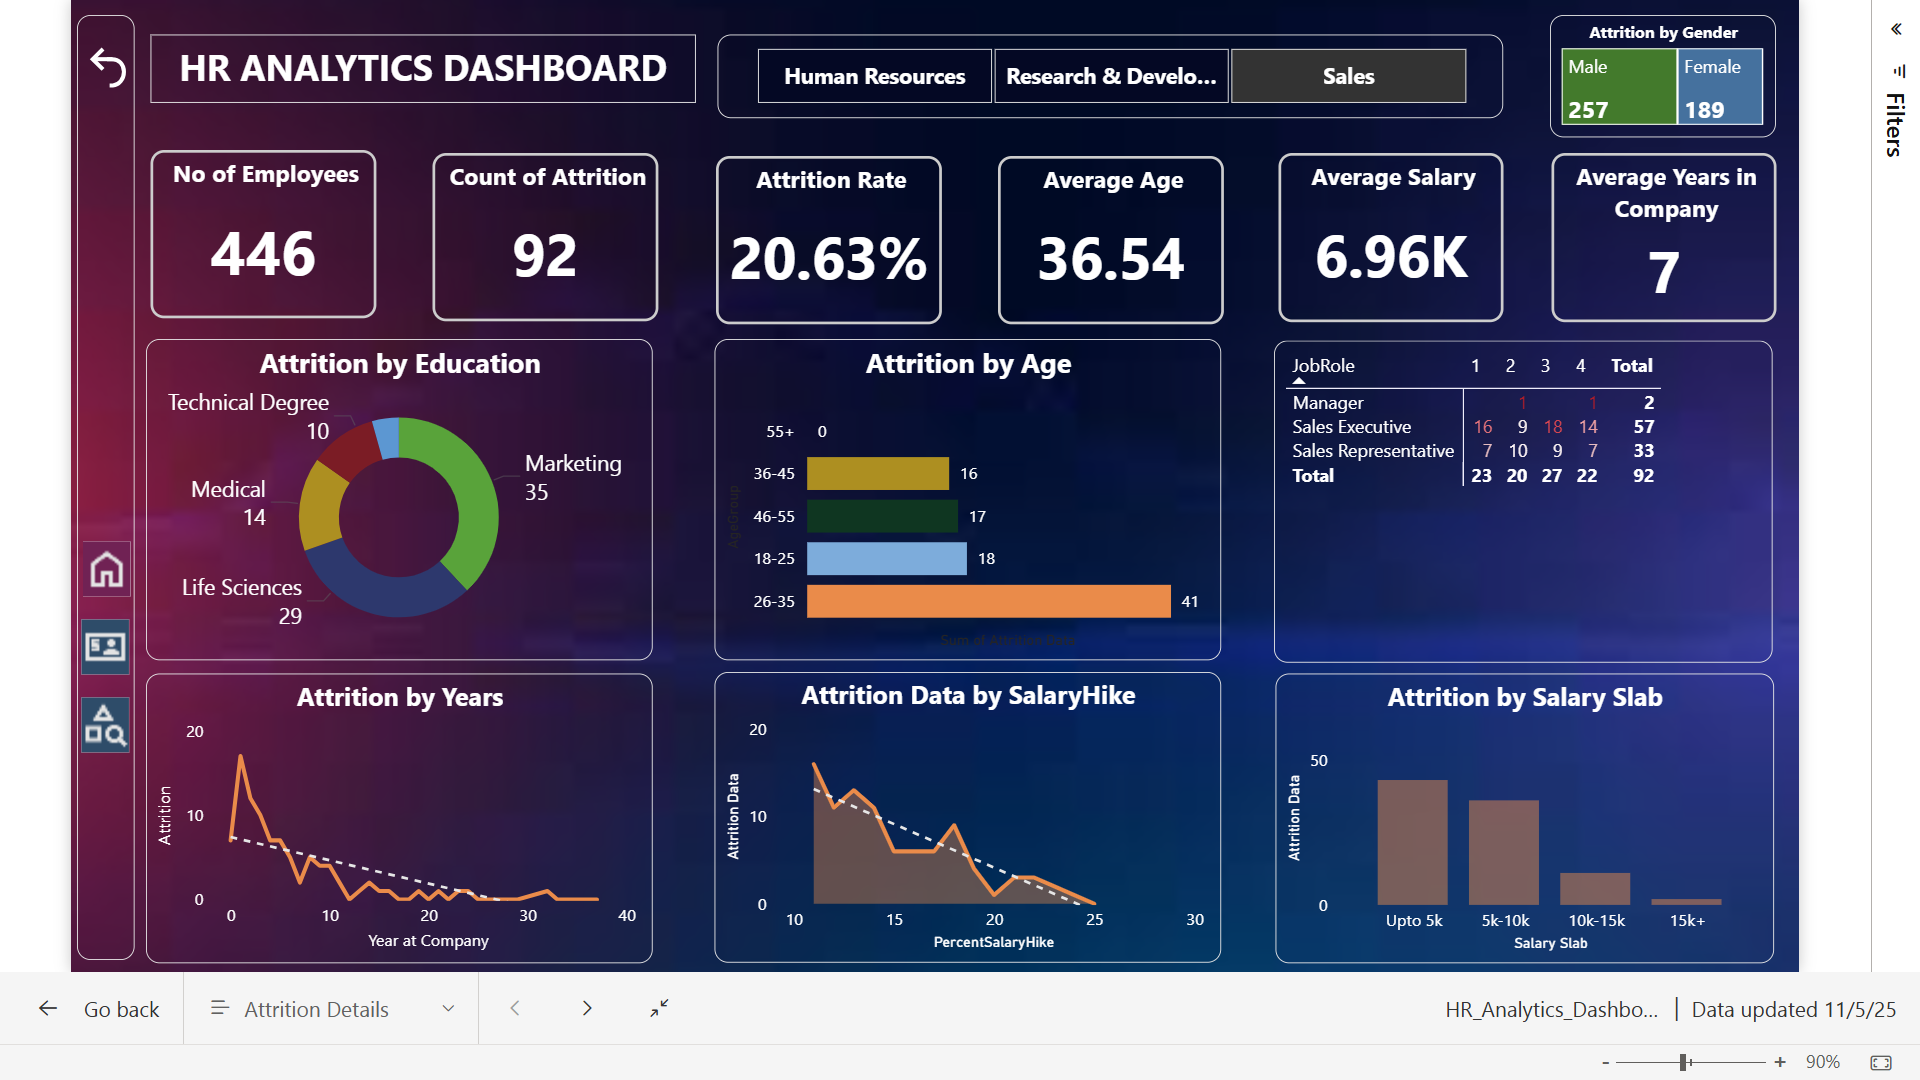

This screenshot's page, from the dashboard's own definition file:
{"tool":"powerbi","page":{"name":"Attrition Details","canvas":[1280,720],"ordinal":0},"visuals":[{"type":"group","id":"g1","title":"Group 1","box":[58.9,110.8,1204.1,128.8],"z":0},{"type":"card","title":"No of Employees","fields":{"Values":["Count(Table1.EmpID)"]},"box":[58.9,110.8,167.2,124.9],"z":0,"group":"g1"},{"type":"donutChart","title":"Attrition by Education","fields":{"Series":["Table1.EducationField"],"Y":["Sum(Table1.Attrition Data)"],"Category":["Table1.EducationField"]},"box":[55.7,251,375.3,238.3],"z":0,"group":"g2"},{"type":"actionButton","box":[9.4,401,35.2,40.6],"z":0,"group":"g3"},{"type":"card","title":"Count of Attrition","fields":{"Values":["CountNonNull(Table1.Attrition Data)"]},"box":[268.3,112.8,167.2,124.9],"z":1000,"group":"g1"},{"type":"group","id":"g2","title":"Group 2","box":[55.7,251,1207.3,461.3],"z":1000},{"type":"clusteredBarChart","title":"Attrition by Age","fields":{"Category":["Table1.AgeGroup"],"Y":["Sum(Table1.Attrition Data)"]},"box":[476.6,251,375.3,238.3],"z":1000,"group":"g2"},{"type":"actionButton","box":[8.1,458.7,35.2,40.6],"z":1000,"group":"g3"},{"type":"shape","box":[4.8,11.1,42.9,699.9],"z":2000},{"type":"card","title":"Average Age","fields":{"Values":["Avg(Table1.Age)"]},"box":[687.2,114.8,167.2,124.9],"z":2000,"group":"g1"},{"type":"pivotTable","fields":{"Rows":["Table1.JobRole"],"Columns":["Table1.JobSatisfaction"],"Values":["CountNonNull(Table1.Attrition Data)"]},"box":[891.2,251.7,369,238.6],"z":2000,"group":"g2"},{"type":"actionButton","box":[8.1,516.3,35.2,40.6],"z":2000,"group":"g3"},{"type":"slicer","fields":{"Values":["Table1.Department"]},"box":[478.8,25.4,582.2,62],"z":3000},{"type":"card","title":"Average Salary","fields":{"Values":["Avg(Table1.MonthlyIncome)"]},"box":[894,112.5,166.6,125.4],"z":3000,"group":"g1"},{"type":"lineChart","title":"Attrition by Years","fields":{"Category":["Table1.YearsAtCompany"],"Y":["Sum(Table1.Attrition Data)"]},"box":[56.1,498.3,375.4,214.7],"z":3000,"group":"g2"},{"type":"treemap","title":"Attrition by Gender","fields":{"Group":["Table1.Gender"],"Values":["CountNonNull(Table1.Attrition Data)"]},"box":[1095.9,11.1,167,90.7],"z":4000},{"type":"card","title":"Average Years in Company","fields":{"Values":["Avg(Table1.YearsAtCompany)"]},"box":[1096.4,112.5,166.6,125.4],"z":4000,"group":"g1"},{"type":"areaChart","title":"Attrition Data by SalaryHike","fields":{"Category":["Table1.PercentSalaryHike"],"Y":["Sum(Table1.Attrition Data)"]},"box":[477,497.8,375,215],"z":4000,"group":"g2"},{"type":"textbox","box":[58.9,25.4,404,50.9],"z":5000},{"type":"card","title":"Attrition Rate","fields":{"Values":["Table1.Attrition Rate"]},"box":[477.7,114.8,167.2,124.9],"z":5000,"group":"g1"},{"type":"lineClusteredColumnComboChart","title":"Attrition by Salary Slab","fields":{"Y":["Sum(Table1.Attrition Data)"],"Category":["Table1.SalarySlab"]},"box":[892.8,498.3,369,214.7],"z":5000,"group":"g2"},{"type":"actionButton","box":[8,30.2,39.8,39.8],"z":6000},{"type":"group","id":"g3","title":"Group 1","box":[8.1,401,34.4,155.9],"z":7000}]}

Visuals, with their boxes on the page's 1280x720 design canvas (x1, y1, x2, y2). These are canvas units, not pixel positions in the 1920x1080 screenshot, which may show the page scaled, cropped or inside an application window:
"Group 1" group: (x1=59, y1=111, x2=1263, y2=240)
"No of Employees" card: (x1=59, y1=111, x2=226, y2=236)
"Attrition by Education" donutChart: (x1=56, y1=251, x2=431, y2=489)
actionButton: (x1=9, y1=401, x2=45, y2=442)
"Count of Attrition" card: (x1=268, y1=113, x2=436, y2=238)
"Group 2" group: (x1=56, y1=251, x2=1263, y2=712)
"Attrition by Age" clusteredBarChart: (x1=477, y1=251, x2=852, y2=489)
actionButton: (x1=8, y1=459, x2=43, y2=499)
shape: (x1=5, y1=11, x2=48, y2=711)
"Average Age" card: (x1=687, y1=115, x2=854, y2=240)
pivotTable - Table1.JobRole x Table1.JobSatisfaction: (x1=891, y1=252, x2=1260, y2=490)
actionButton: (x1=8, y1=516, x2=43, y2=557)
slicer - Table1.Department: (x1=479, y1=25, x2=1061, y2=87)
"Average Salary" card: (x1=894, y1=112, x2=1061, y2=238)
"Attrition by Years" lineChart: (x1=56, y1=498, x2=432, y2=713)
"Attrition by Gender" treemap: (x1=1096, y1=11, x2=1263, y2=102)
"Average Years in Company" card: (x1=1096, y1=112, x2=1263, y2=238)
"Attrition Data by SalaryHike" areaChart: (x1=477, y1=498, x2=852, y2=713)
textbox: (x1=59, y1=25, x2=463, y2=76)
"Attrition Rate" card: (x1=478, y1=115, x2=645, y2=240)
"Attrition by Salary Slab" lineClusteredColumnComboChart: (x1=893, y1=498, x2=1262, y2=713)
actionButton: (x1=8, y1=30, x2=48, y2=70)
"Group 1" group: (x1=8, y1=401, x2=42, y2=557)
